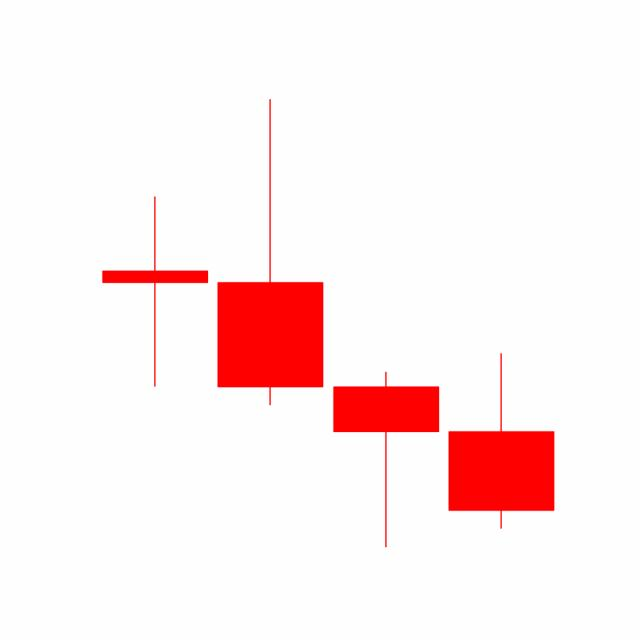Hammer: (328, 369, 444, 550)
